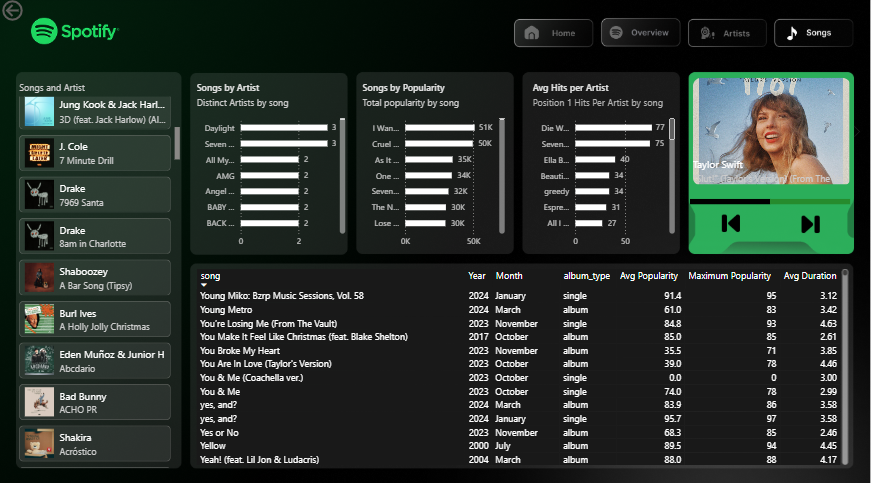

This screenshot's page, from the dashboard's own definition file:
{"tool":"powerbi","page":{"name":"Songs","canvas":[1280,720],"ordinal":3},"visuals":[{"type":"actionButton","box":[758.5,30.6,114.1,40.1],"z":0},{"type":"actionButton","box":[885,30.6,114.1,40.1],"z":1000},{"type":"actionButton","box":[1011.5,30.6,114.1,40.1],"z":2000},{"type":"actionButton","box":[1137.9,30.6,114.1,40.1],"z":3000},{"type":"advancedSlicerVisual","title":"Songs and Artist","fields":{"Values":["Top-50-World.song"],"Label":["Min(Top-50-World.artist)"]},"box":[24.7,123.4,246.8,569.2],"z":3001},{"type":"clusteredBarChart","title":" Songs by Artist","fields":{"Y":["_Measures.Distinct Songs"],"Category":["Top-50-World.artist"]},"box":[285.4,123.4,228.3,253],"z":3002},{"type":"clusteredBarChart","title":" Songs by Artist","fields":{"Y":["Sum(Top-50-World.popularity)"],"Category":["Top-50-World.song"]},"box":[530.6,123.4,219,253],"z":3003},{"type":"clusteredBarChart","title":" Songs by Artist","fields":{"Y":["Sum(Top-50-World.popularity)"],"Category":["Top-50-World.song"]},"box":[775.9,123.4,219,253],"z":3004},{"type":"advancedSlicerVisual","title":"Songs and Artist","fields":{"Values":["Top-50-World.song"],"Label":["Min(Top-50-World.artist)"]},"box":[993.4,112.6,282.3,169.7],"z":3005},{"type":"hundredPercentStackedBarChart","fields":{"Y":["_Measures.Avg Popularity","Avg(Top-50-World.popularity)"]},"box":[1010.4,262.2,245.3,71],"z":3006},{"type":"group","id":"g1","title":"Group 1","box":[1055.1,317.8,157.3,32.4],"z":3007},{"type":"shape","box":[1011.9,104.9,245.3,290],"z":3008},{"type":"image","box":[1172.7,319.3,40,30],"z":20000,"group":"g1"},{"type":"image","box":[1055.1,317.8,40,30],"z":21000,"group":"g1"}]}

Visuals, with their boxes in screenshot pixels (x1, y1, x2, y2), scaled from the page's 1280x720 canvas onto the 871x483 screenshot:
actionButton: select_region(516, 21, 594, 47)
actionButton: select_region(602, 21, 680, 47)
actionButton: select_region(688, 21, 766, 47)
actionButton: select_region(774, 21, 852, 47)
"Songs and Artist" advancedSlicerVisual: select_region(17, 83, 185, 465)
" Songs by Artist" clusteredBarChart: select_region(194, 83, 350, 253)
" Songs by Artist" clusteredBarChart: select_region(361, 83, 510, 253)
" Songs by Artist" clusteredBarChart: select_region(528, 83, 677, 253)
"Songs and Artist" advancedSlicerVisual: select_region(676, 76, 868, 189)
hundredPercentStackedBarChart - _Measures.Avg Popularity x Avg(Top-50-World.popularity): select_region(688, 176, 854, 224)
"Group 1" group: select_region(718, 213, 825, 235)
shape: select_region(689, 70, 855, 265)
image: select_region(798, 214, 825, 234)
image: select_region(718, 213, 745, 233)
